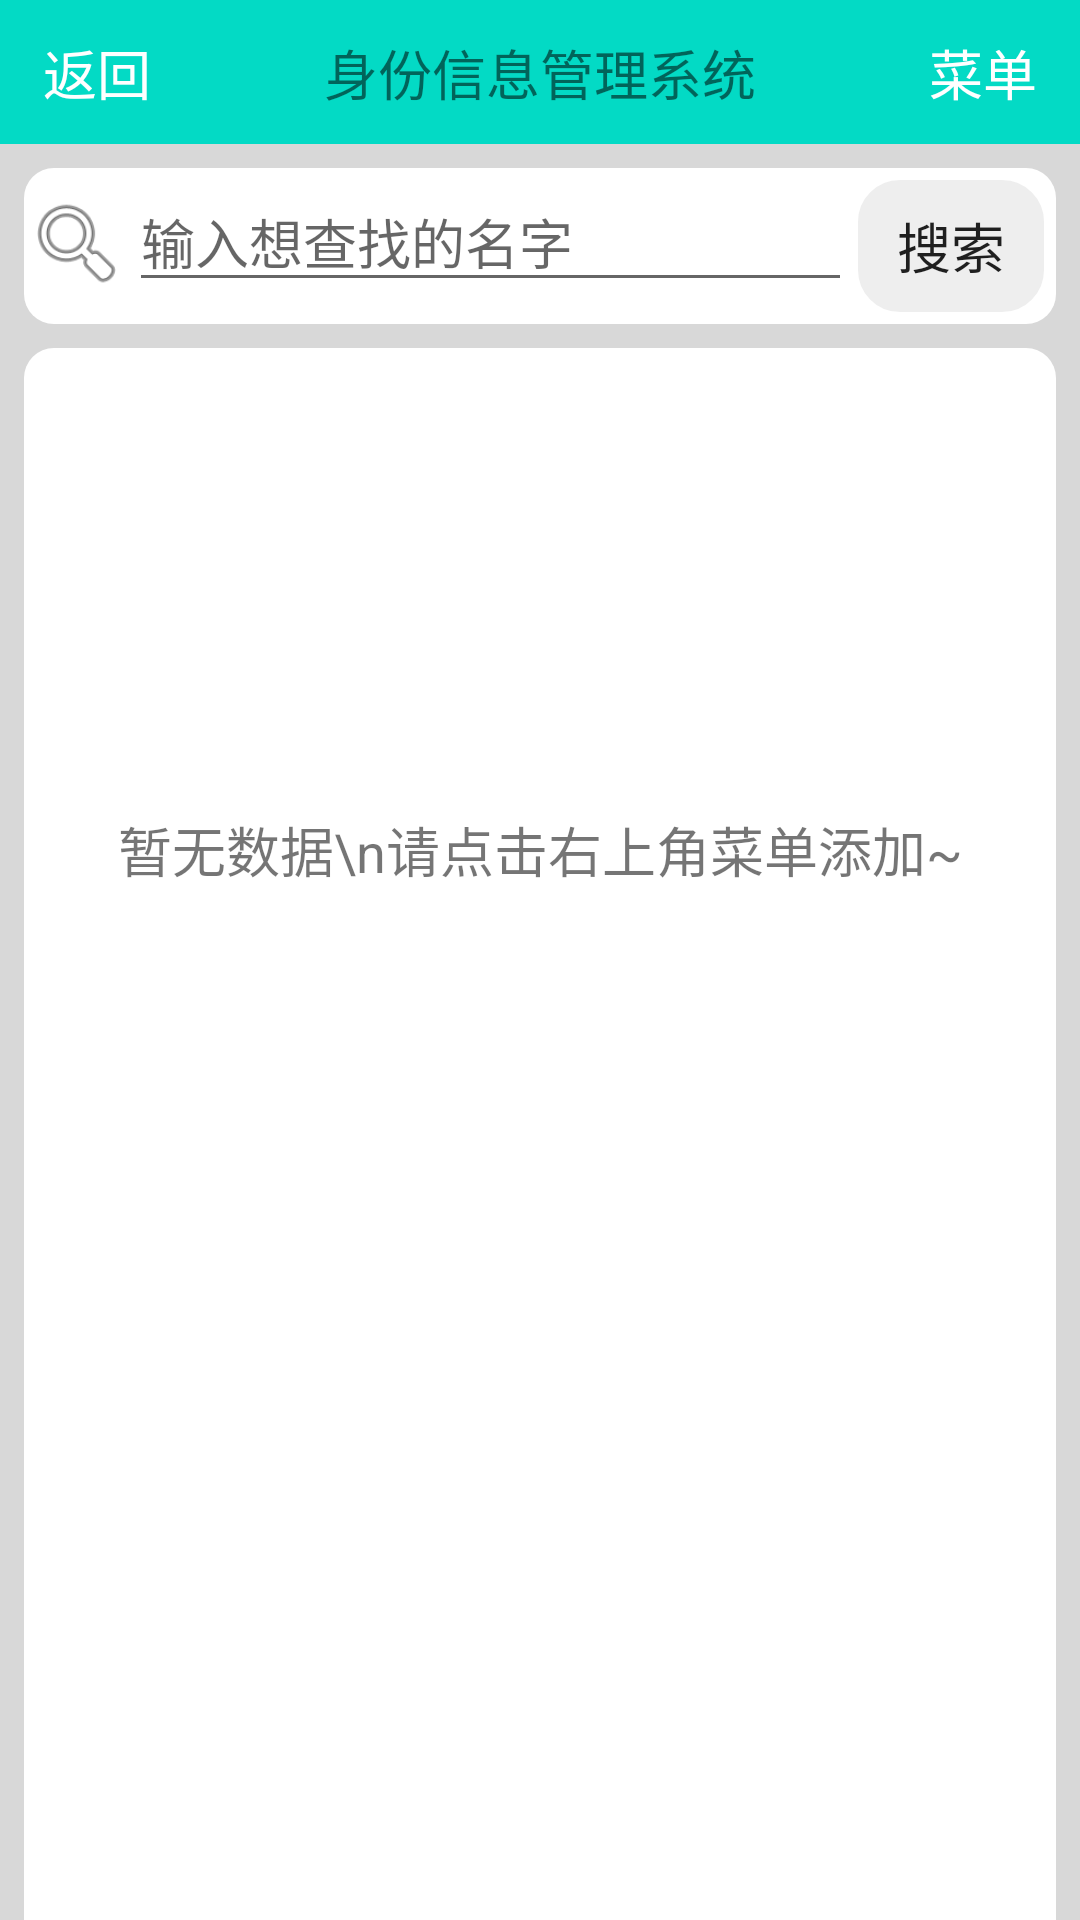

Screen size 1080w x 1920h. Icon name, then its center in pixels as (x=x, y=y):
search: (x=76, y=243)
